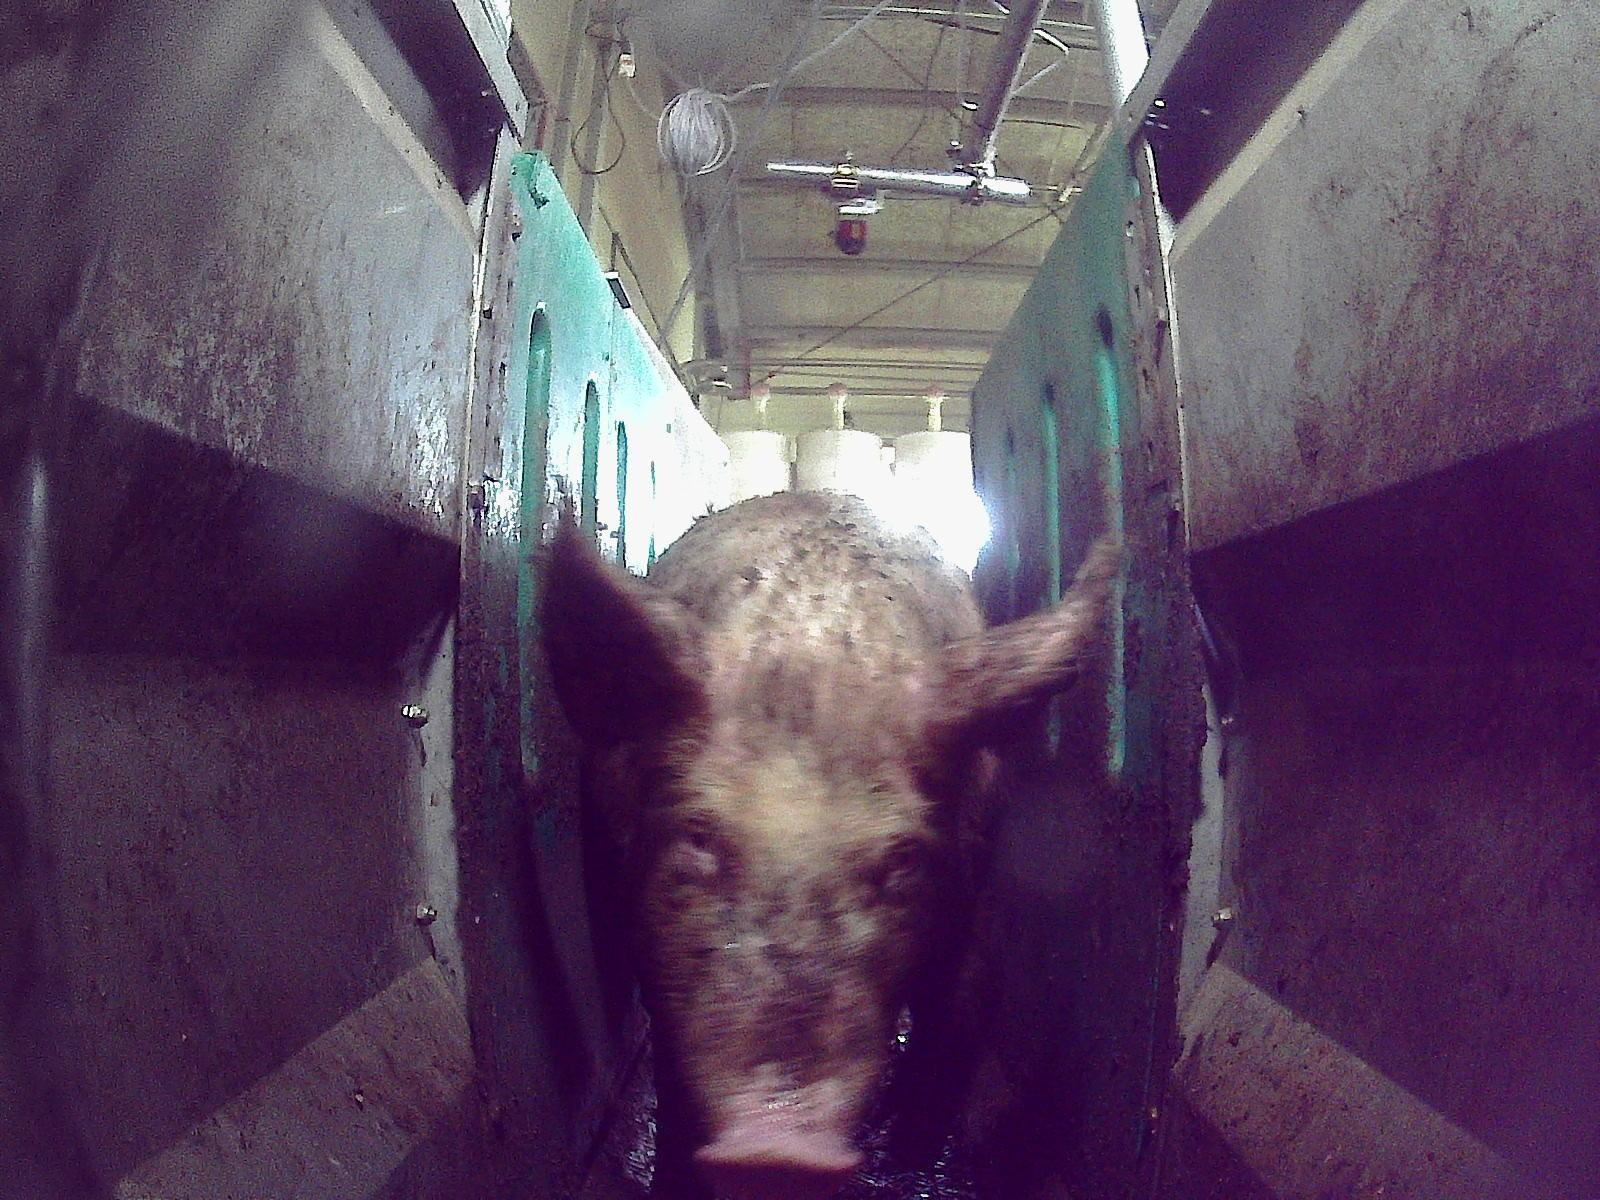Face: (623, 674, 948, 1199)
